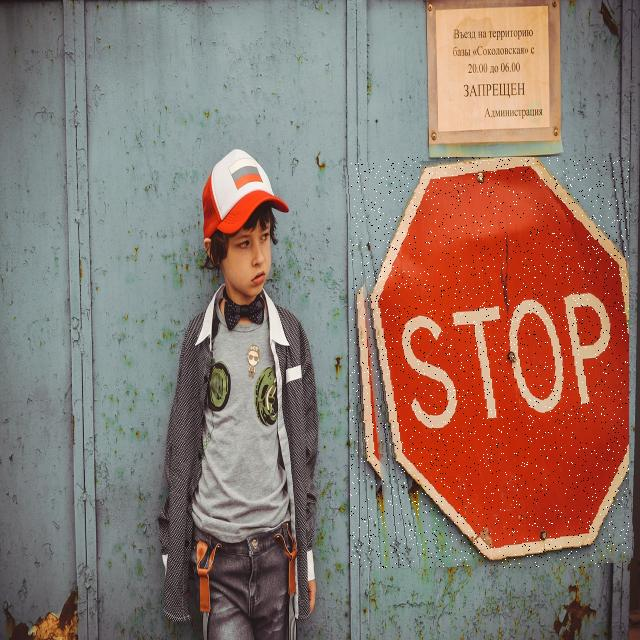stop: (350, 157, 629, 568)
